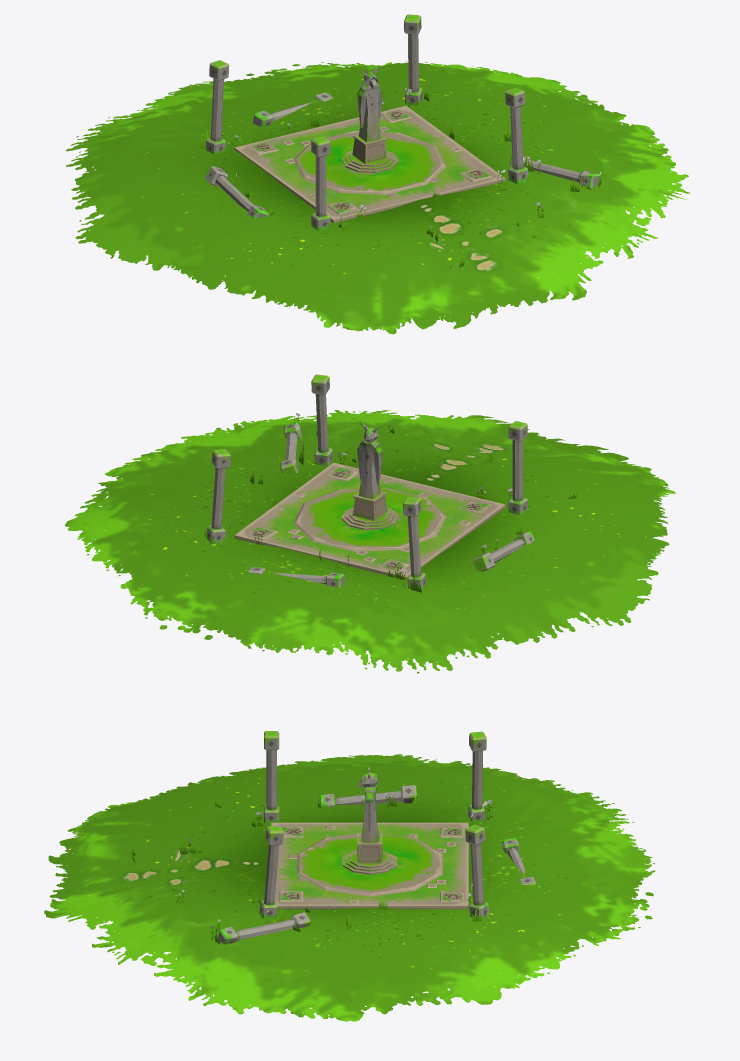
Rendered from TestArea.fbx.
3 renders of one model, top to bottom at view 1: azimuth 30°, elevation 25°; view 2: azimuth 150°, elevation 25°; view 3: azimuth 270°, elevation 25°, orthographic.
Parts seen in each view (by area): view 1: Groundlush1, Cubicplatform, Circularbase, StatueDeity2, polySurface73, polySurface70, polySurface64, polySurface67; view 2: Groundlush1, Cubicplatform, Circularbase, StatueDeity2, polySurface73, polySurface64, polySurface67, polySurface70; view 3: Groundlush1, Cubicplatform, Circularbase, StatueDeity2, polySurface67, polySurface70, polySurface73, polySurface64, polySurface79, polySurface76.
Part boxes in pixels (x1,y1,x2,y2): Groundlush1: [66, 61, 689, 334]; Cubicplatform: [234, 105, 505, 223]; Circularbase: [293, 131, 446, 194]; StatueDeity2: [352, 65, 387, 164]; polySurface73: [315, 155, 326, 216]; polySurface70: [510, 106, 523, 169]; polySurface64: [210, 78, 224, 141]; polySurface67: [408, 34, 419, 92]; Groundlush1: [64, 410, 675, 673]; Cubicplatform: [234, 462, 505, 579]; Circularbase: [293, 487, 446, 551]; StatueDeity2: [352, 422, 387, 520]; polySurface73: [512, 440, 522, 501]; polySurface64: [407, 516, 421, 577]; polySurface67: [211, 467, 225, 529]; polySurface70: [315, 394, 328, 452]; Groundlush1: [44, 754, 655, 1021]; Cubicplatform: [271, 822, 468, 909]; Circularbase: [297, 833, 442, 896]; StatueDeity2: [357, 765, 382, 863]; polySurface67: [470, 843, 484, 905]; polySurface70: [264, 845, 278, 905]; polySurface73: [266, 750, 276, 810]; polySurface64: [472, 751, 482, 809]; polySurface79: [236, 919, 296, 940]; polySurface76: [335, 791, 402, 804].
Bounding box in the file's own units: 46.67 × 9.21 × 46.67.
